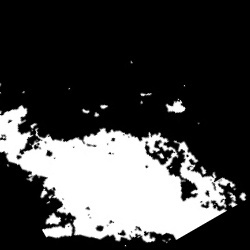pinhole: (140, 92, 151, 97), (82, 109, 89, 113), (101, 105, 107, 108), (95, 113, 98, 118), (130, 59, 133, 62), (22, 91, 26, 93), (183, 83, 184, 90)
spot: (1, 106, 247, 243), (167, 99, 183, 112)
